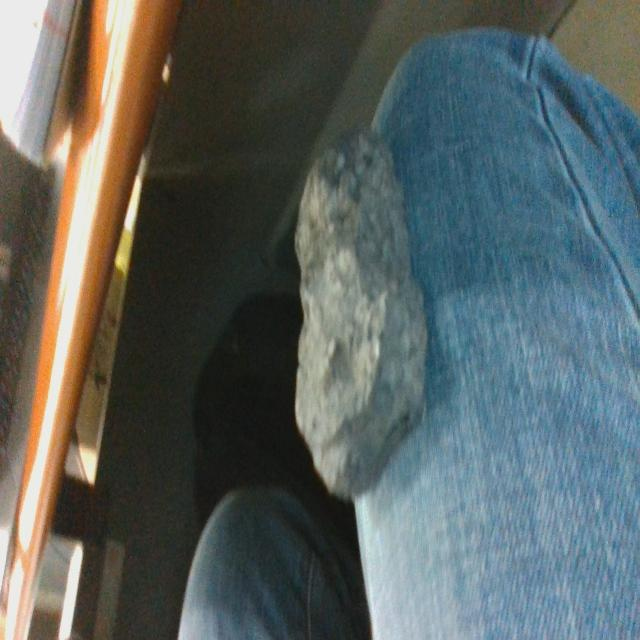stone: (296, 126, 428, 497)
